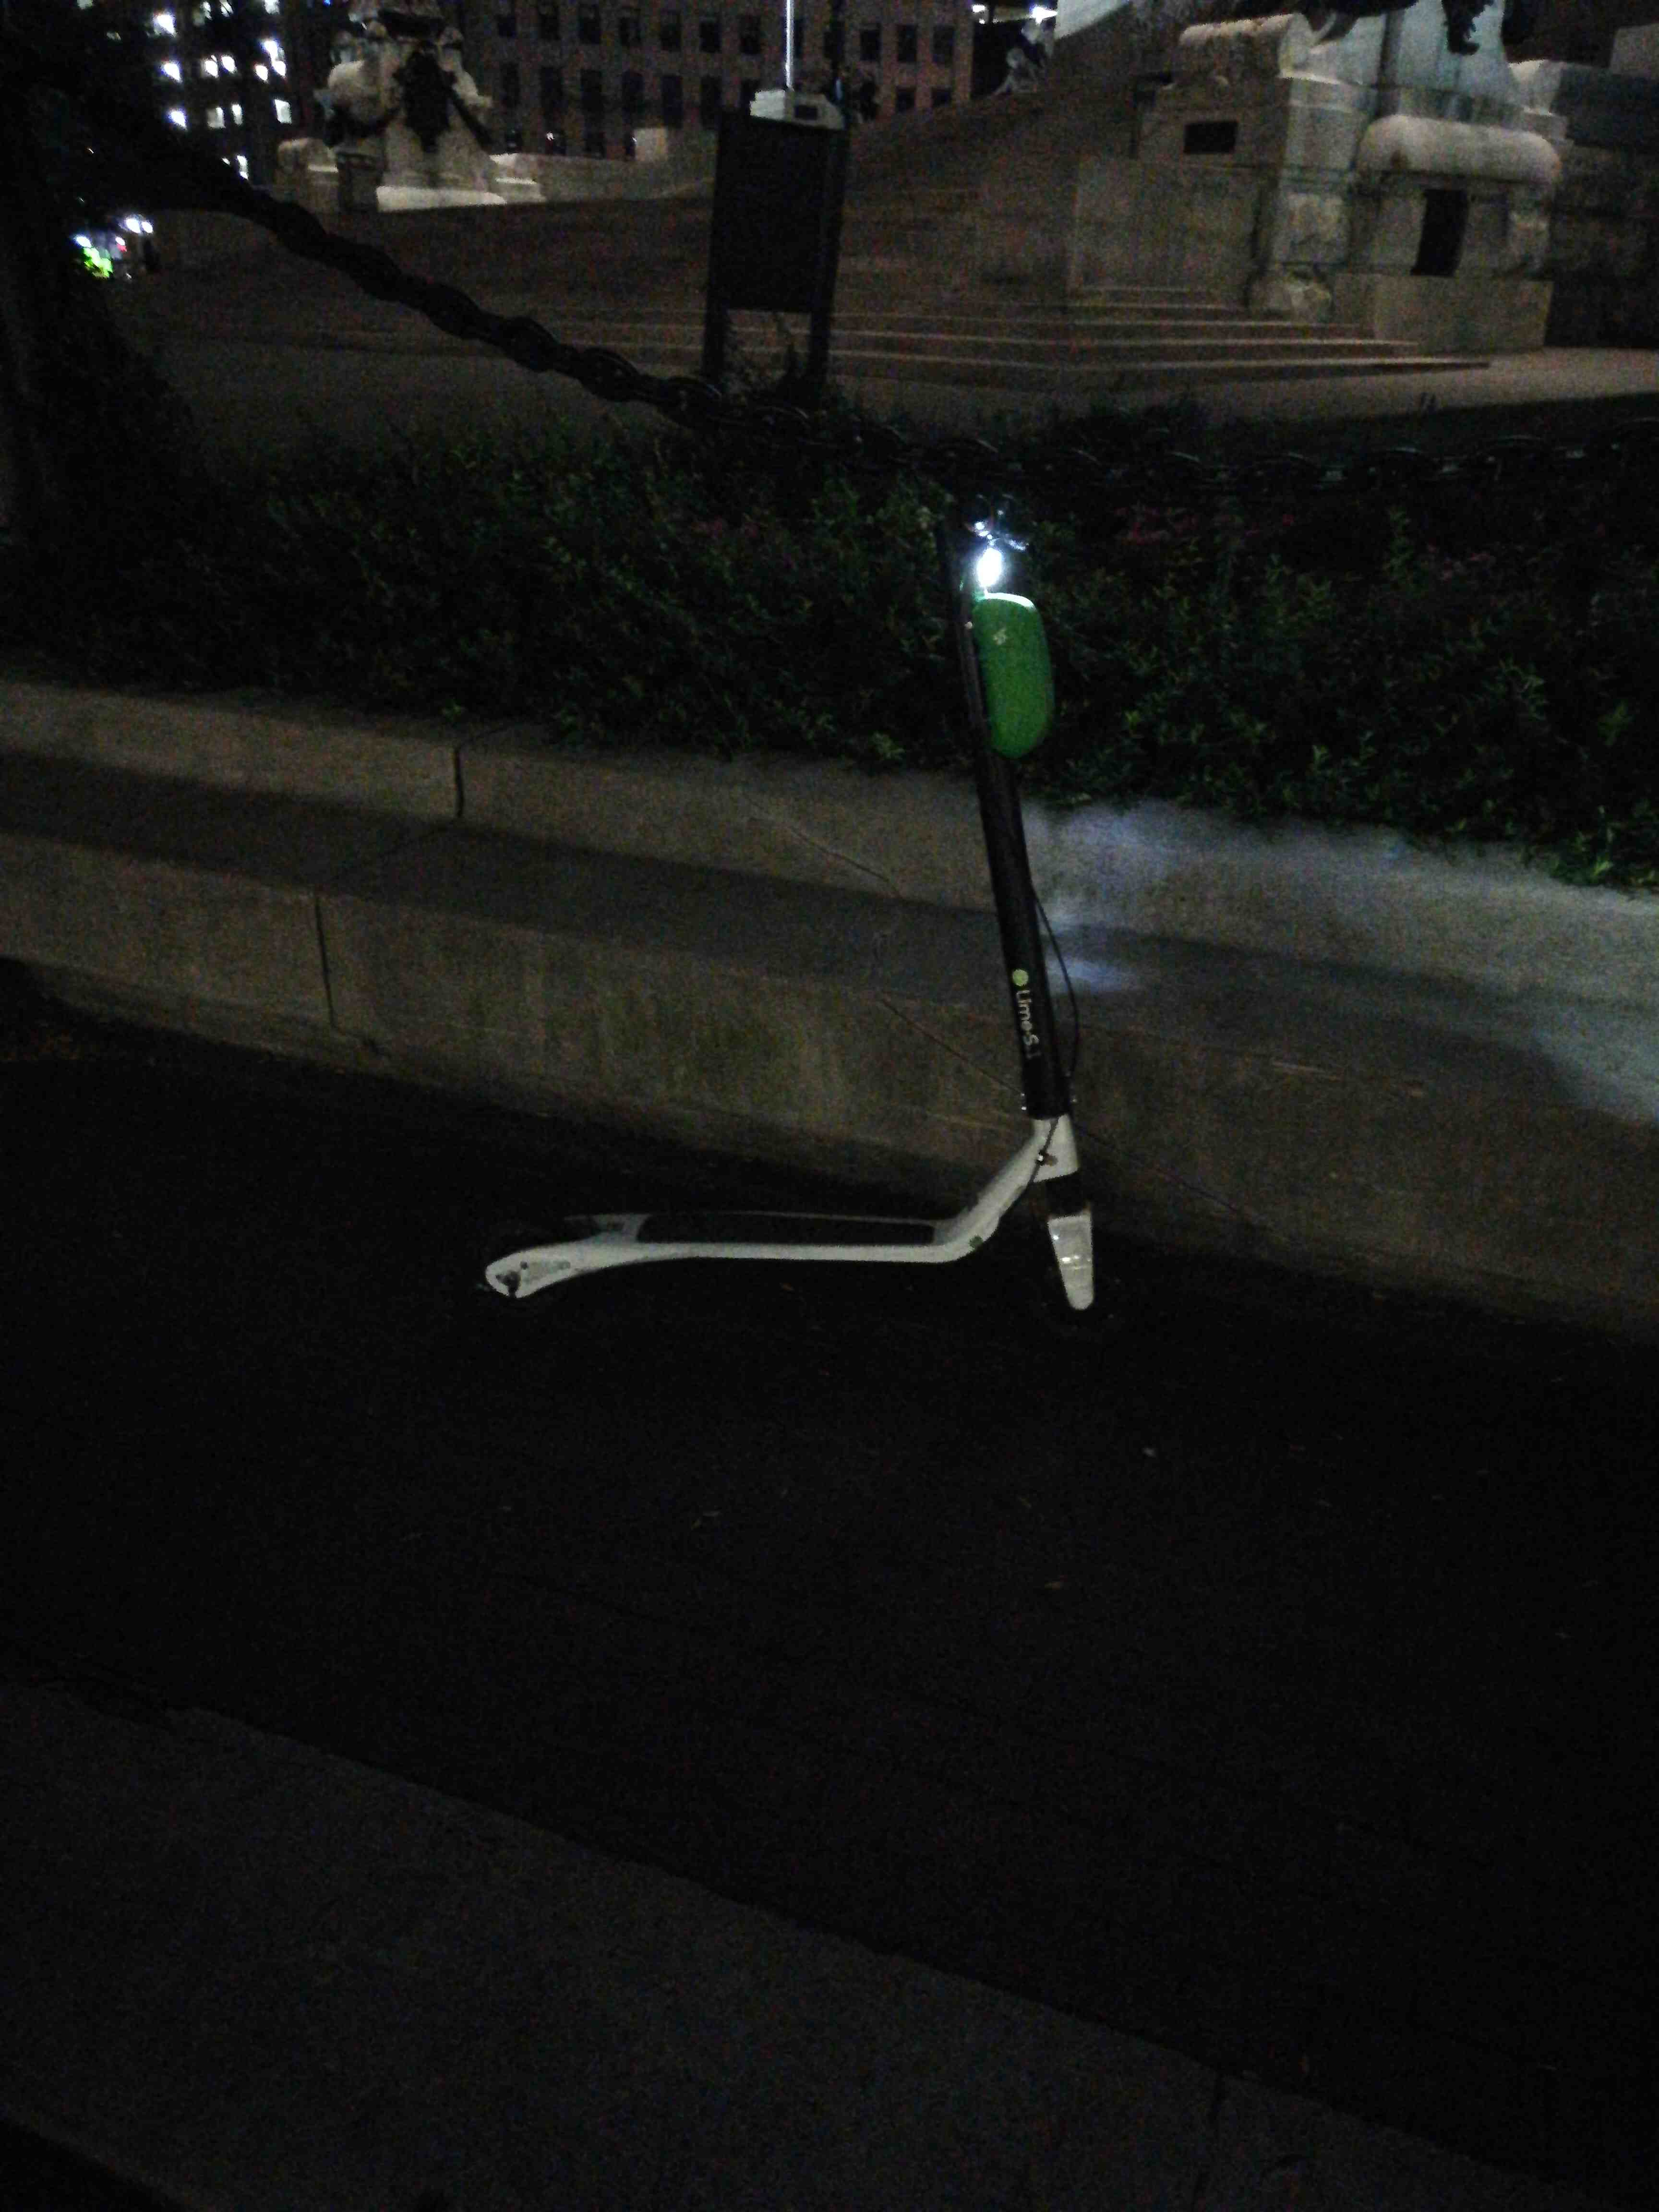scooter: (434, 439, 1164, 1378)
